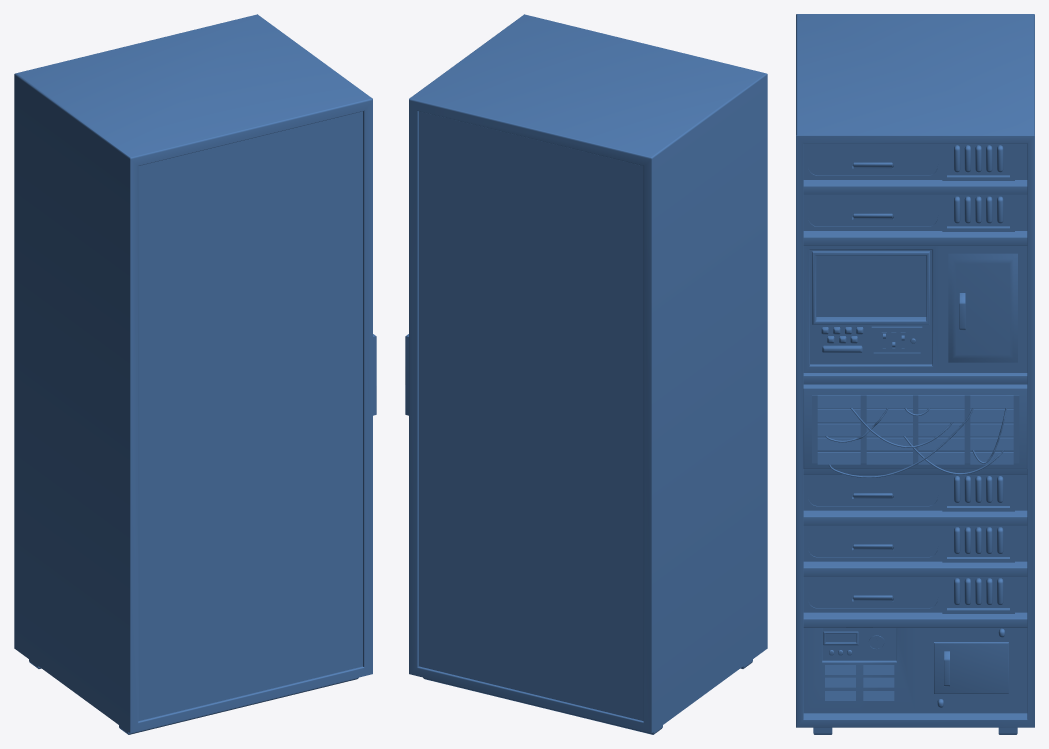
Rendered from Rack1.fbx.
The picture shows the model from 3 angles, left to right: view 1: azimuth 30°, elevation 25°; view 2: azimuth 150°, elevation 25°; view 3: azimuth 270°, elevation 25°; orthographic projection. The views are drawn at different scales.
Visible parts, largest first — view 1: Kostka; view 2: Kostka; view 3: Kostka, Kostka.001.
Part boxes in pixels (x1,y1,x2,y2): Kostka: (14, 14, 376, 734); Kostka: (405, 14, 767, 734); Kostka: (796, 14, 1034, 734); Kostka.001: (948, 253, 1017, 362).
Size of the model in its own units: 211 by 461 by 165.
